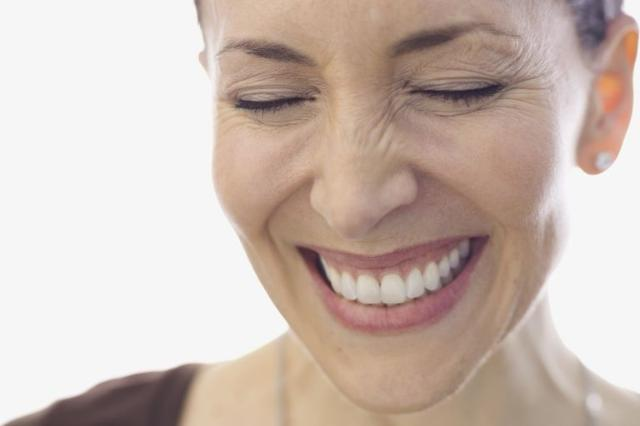bunny_line: (367, 108, 399, 156)
crows_feet: (505, 65, 543, 110)
gummy_smile: (262, 174, 312, 226), (421, 166, 481, 206)
